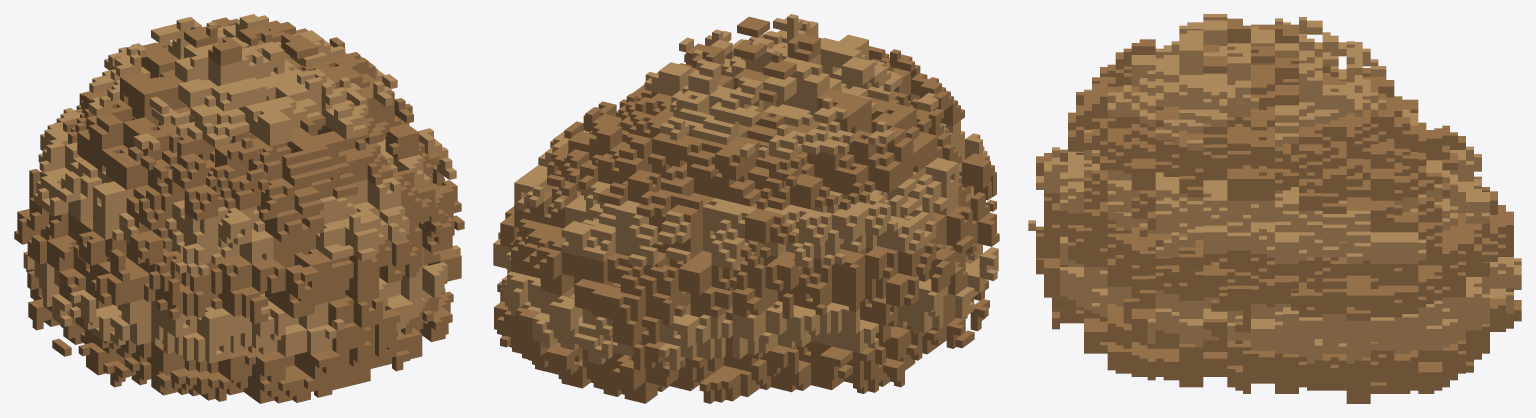
The model's file is rock_dunes_1.obj.
The picture shows the model from 3 angles, left to right: view 1: azimuth 30°, elevation 25°; view 2: azimuth 150°, elevation 25°; view 3: azimuth 270°, elevation 25°; orthographic projection. The views are drawn at different scales.
Size of the model in its own units: 1.45 by 0.95 by 1.55.
1 material, 1 textured.
